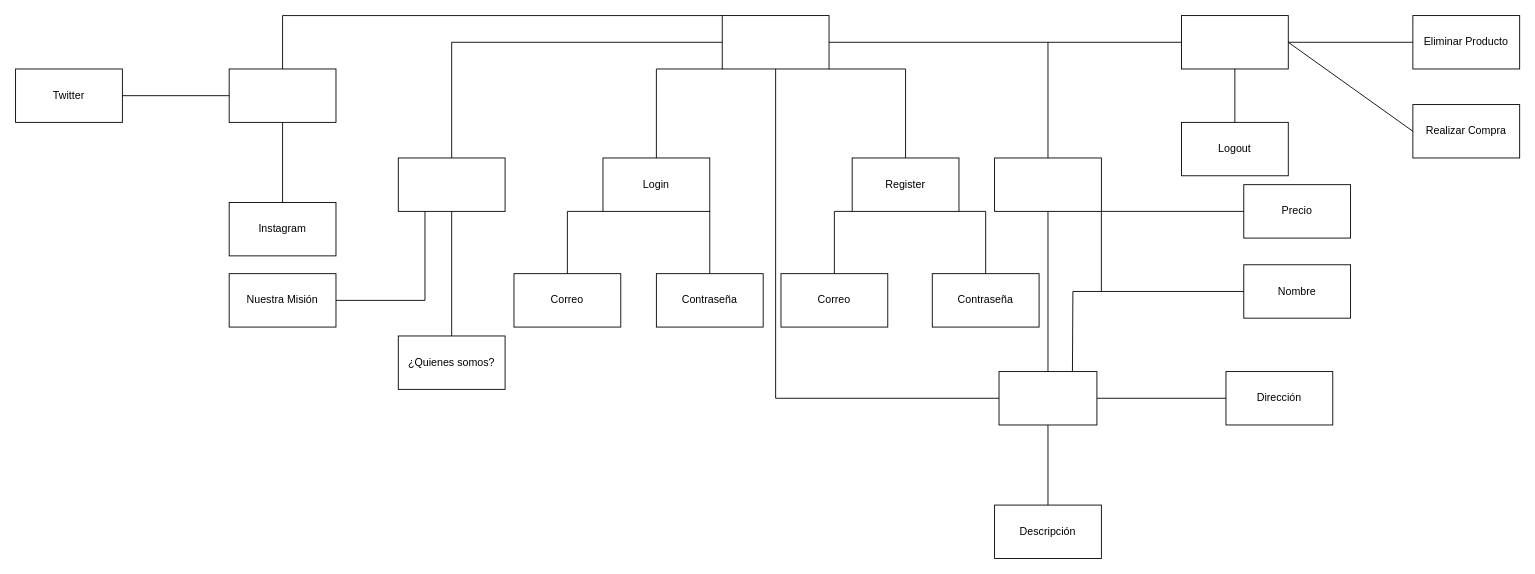
The diagram is 1535 pixels wide and 574 high, and some of its shapes have lost their labels. Here are the shapes that lost their labels. From the top down, the centre of each, then its label:
At point 775,42: "Home".
At point 1234,42: "Perfil".
At point 282,95: "Footer".
At point 451,184: "About us".
At point 1047,184: "Productos".
At point 1047,398: "Ver Producto".
